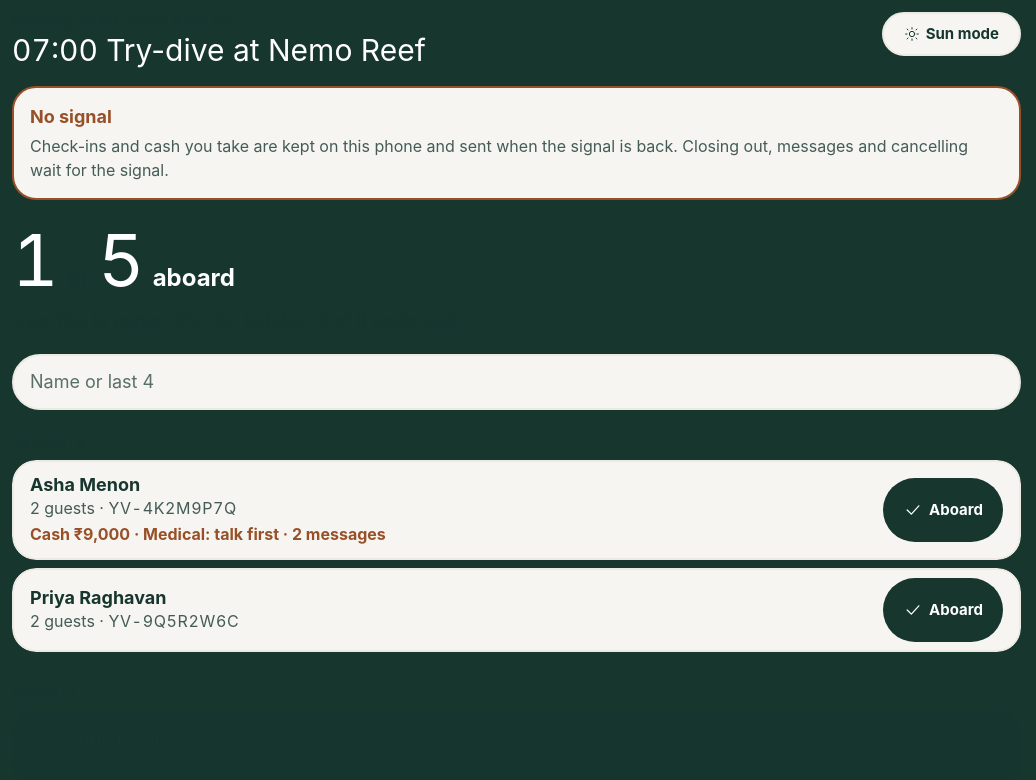
Test: boarding › keeps a check-in on the phone with no signal, and says so
The image size is (1036, 780).
Click the button with aria-label "Aboard: check in Asha Menon" at x=943, y=510, box x1=883 y1=478 x2=1003 y2=542
Wait 5000 ms
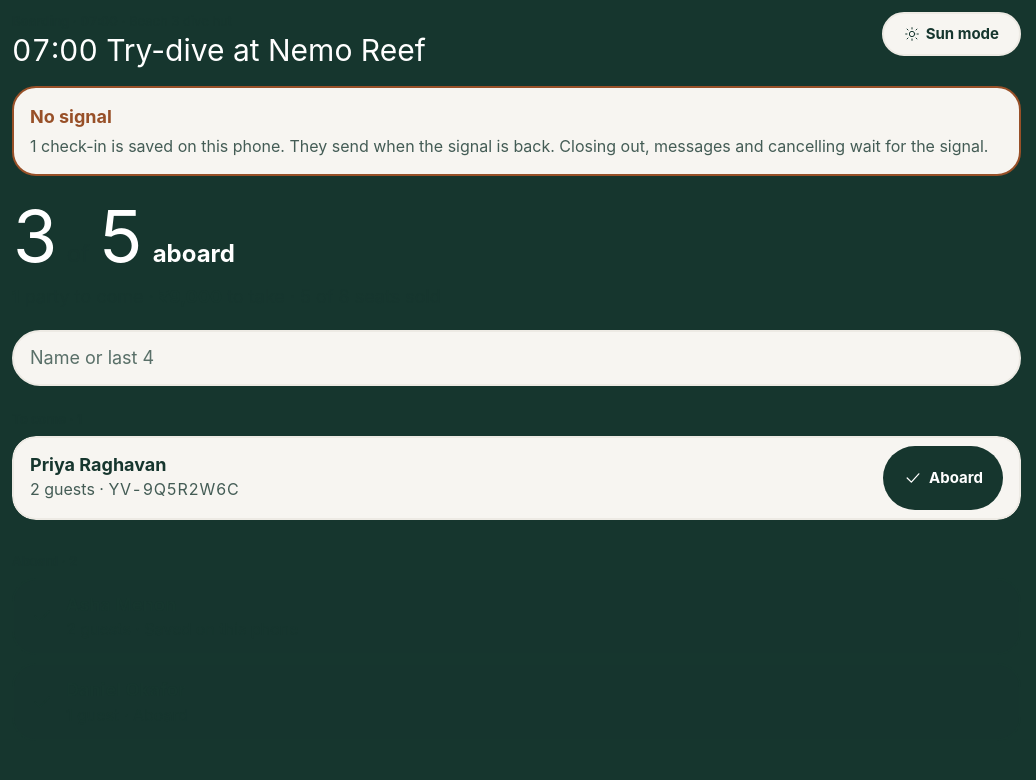
Now the message shows "1 check-in is saved on this phone. They send when the signal is back.", box x1=30 y1=136 x2=555 y2=156
